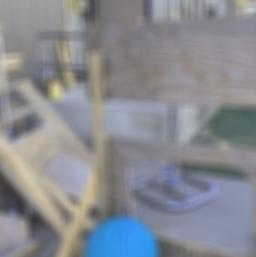algae: (83, 212, 160, 257)
